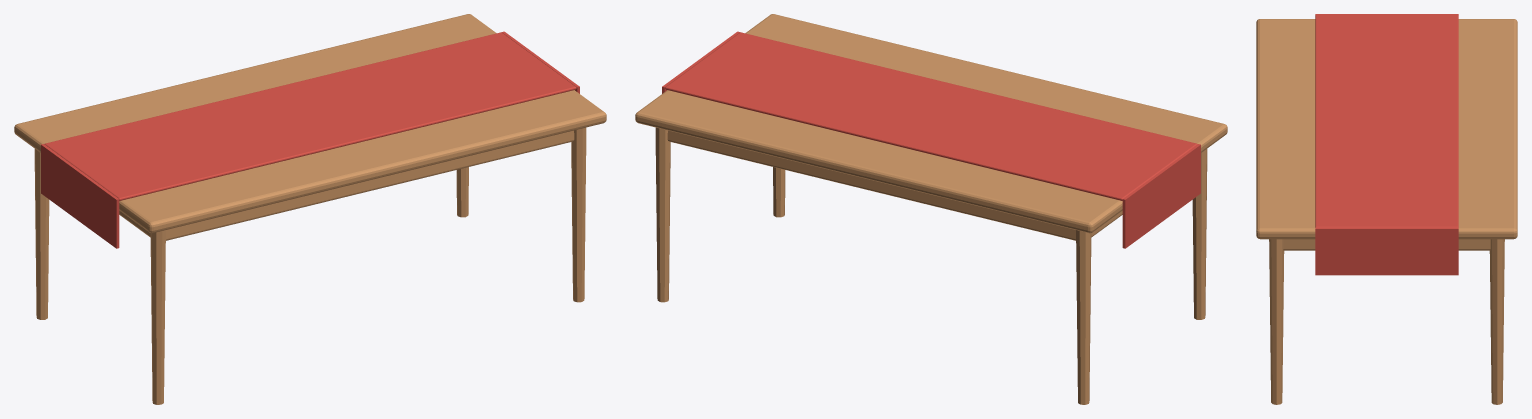
File: table.glb
3 renders of one model, left to right at view 1: azimuth 30°, elevation 25°; view 2: azimuth 150°, elevation 25°; view 3: azimuth 270°, elevation 25°, orthographic. The views are drawn at different scales.
Parts seen in each view (by area): view 1: table; view 2: table; view 3: table.
Boxes of the visible parts, left/top/right/bottom form: table: left=14, top=14, right=606, bottom=404; table: left=635, top=14, right=1227, bottom=404; table: left=1256, top=14, right=1517, bottom=404.
Size of the model in its own units: 1.98 by 0.792 by 1.02.
